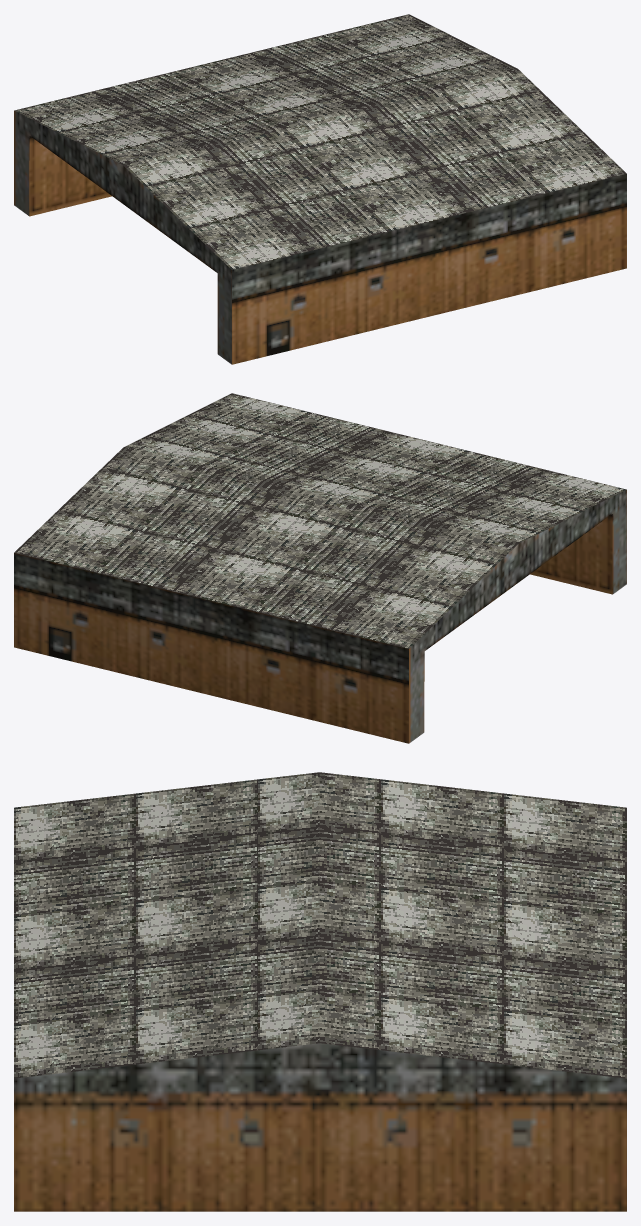
The model's file is lodschlhnger02_lvs.obj.
3 views of the same model, one above another, from view 1: azimuth 30°, elevation 25°; view 2: azimuth 150°, elevation 25°; view 3: azimuth 270°, elevation 25° (orthographic). The views are drawn at different scales.
Visible parts, largest first — view 1: lodschlhnger02_lvs; view 2: lodschlhnger02_lvs; view 3: lodschlhnger02_lvs.
Boxes of the visible parts, bbox=[...] form: lodschlhnger02_lvs: bbox=[14, 14, 626, 364]; lodschlhnger02_lvs: bbox=[14, 393, 626, 743]; lodschlhnger02_lvs: bbox=[14, 772, 626, 1211].
Size of the model in its own units: 26.09 by 7.56 by 24.94.
Materials: 2 (2 with a texture image).
